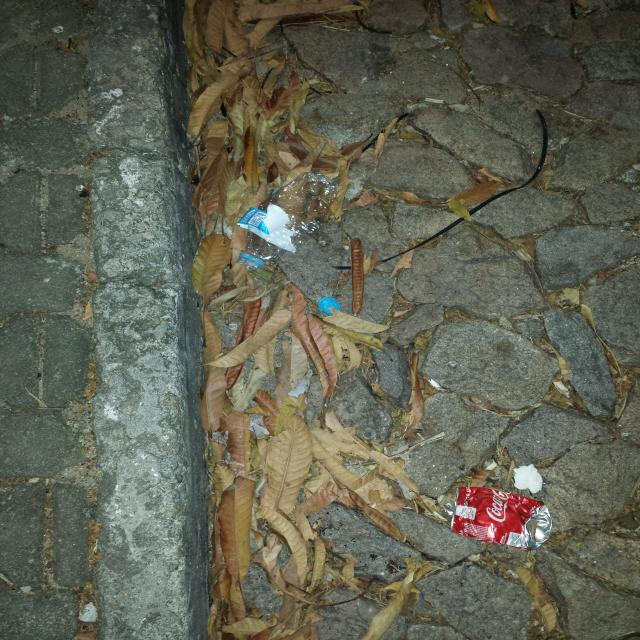litter: (239, 169, 357, 275), (447, 480, 556, 553)
